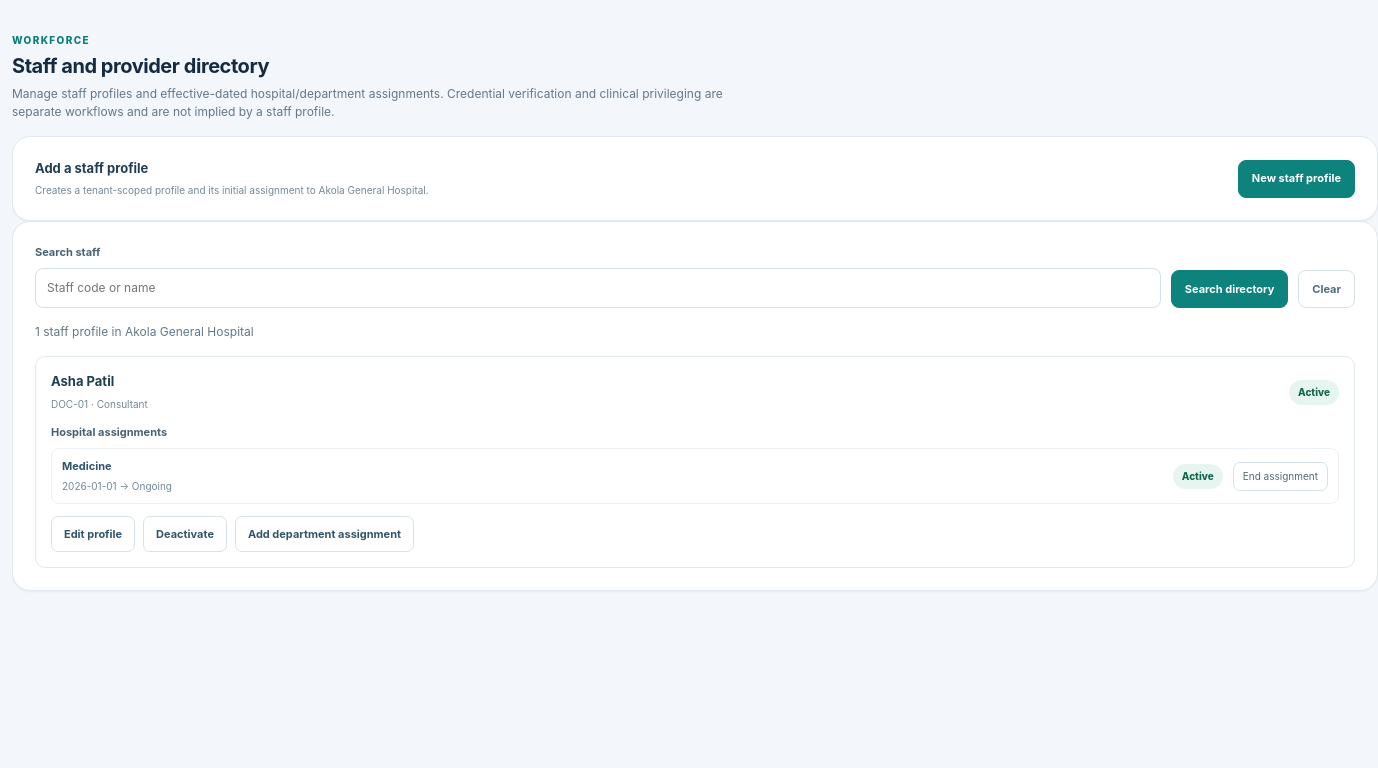
Scenario: staff management workspace › shows hospital-scoped staff assignments and requires confirmation before deactivation
Expected: the text "Asha Patil" is shown, [51,373,114,389]
Expected: the text "Medicine" is shown, [62,459,112,473]
Click the button "Deactivate".
click(185, 534)  # box [143,516,227,552]
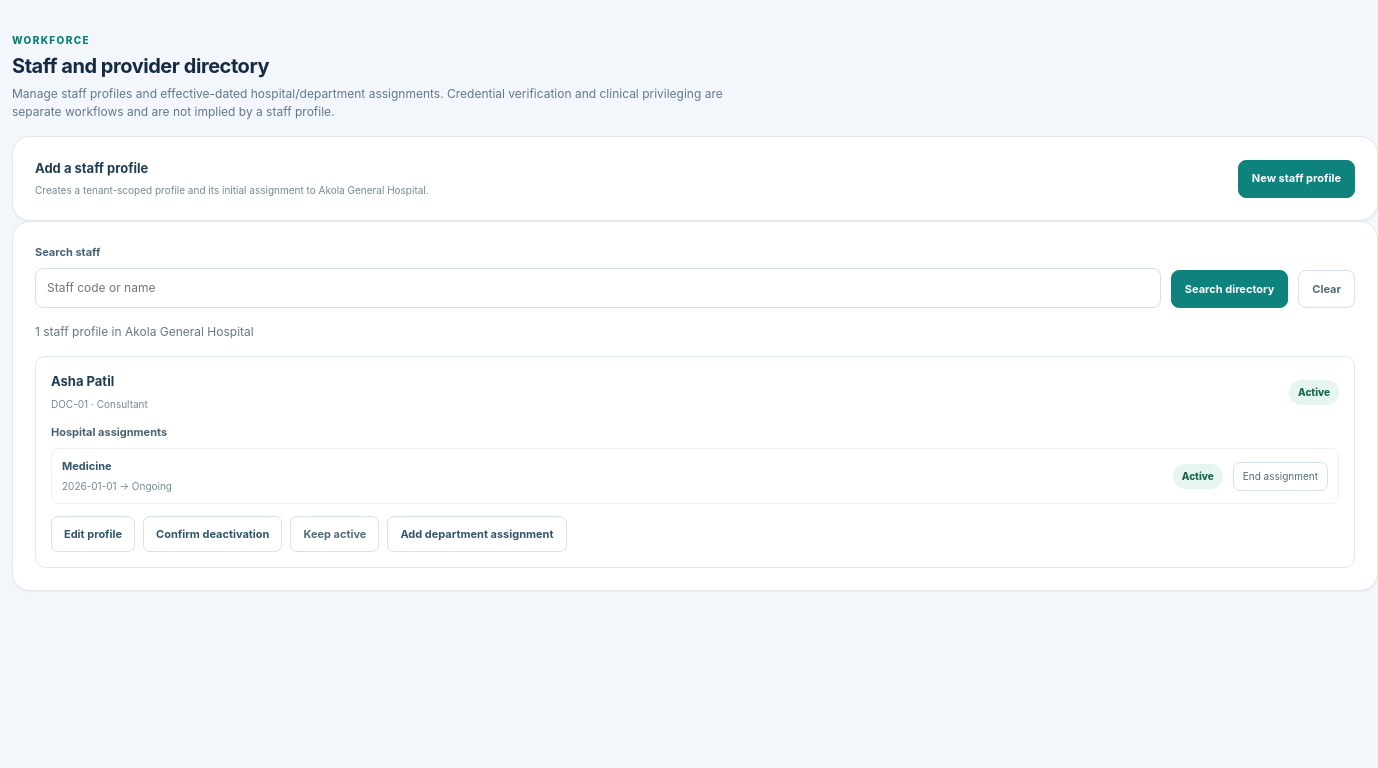
Click the button "Confirm deactivation".
click(213, 534)  # box [143,516,282,552]
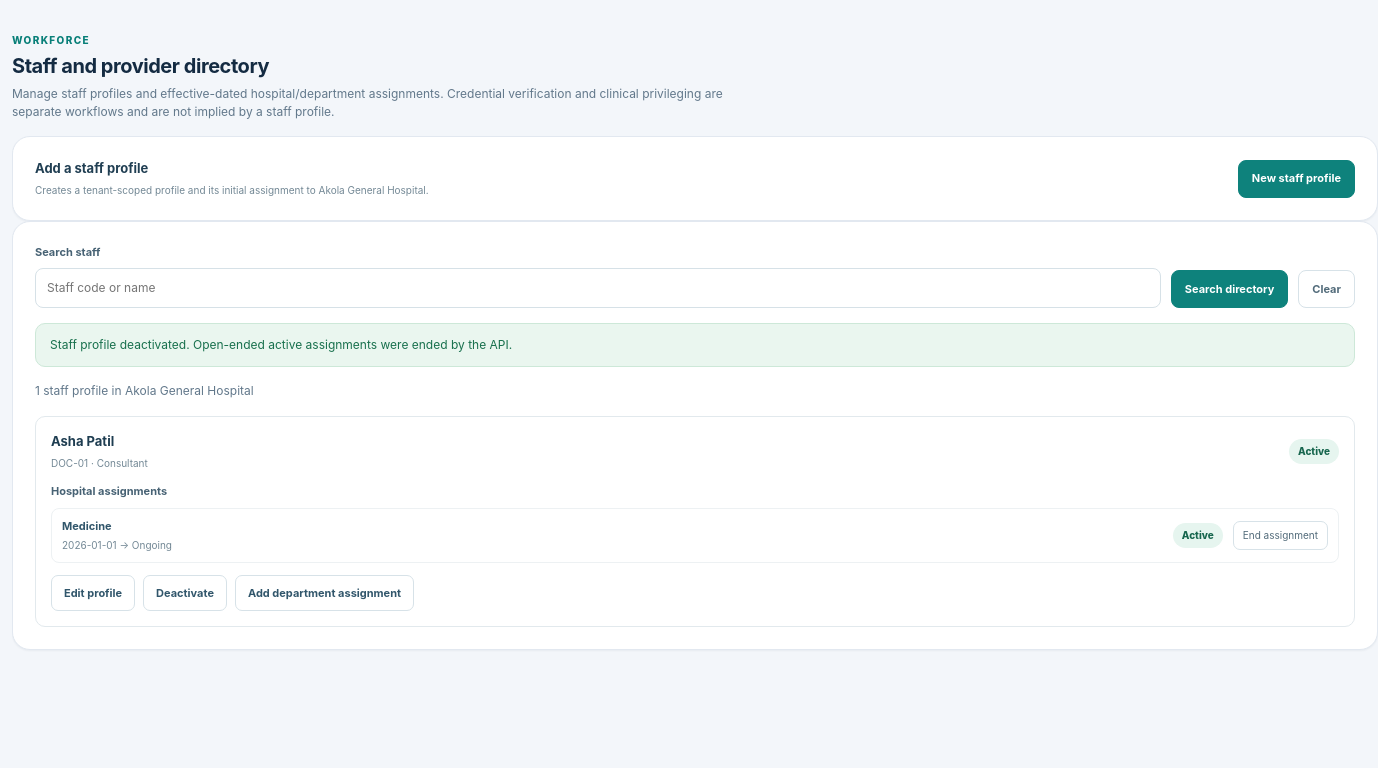
Now the text "Open-ended active assignments were ended" is shown, box [50,337,512,352]
